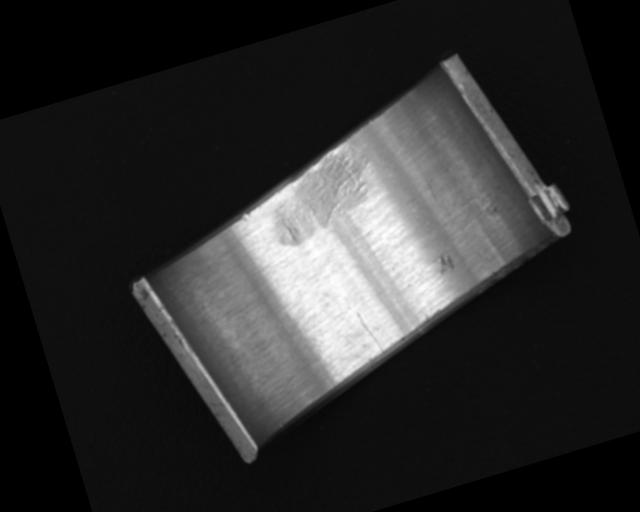bruise: (435, 251, 457, 277), (240, 210, 252, 222)
nick: (354, 307, 386, 359)
scratch: (254, 140, 388, 251)
